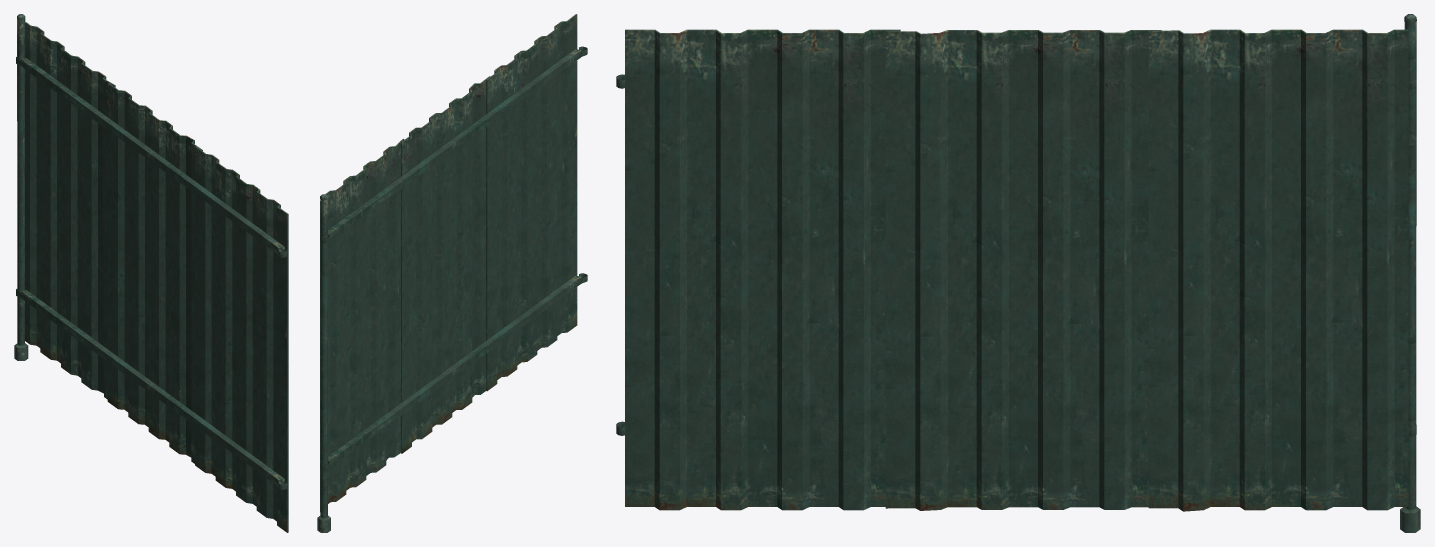
File: RustedFence_B_B.fbx
The picture shows the model from 3 angles, left to right: view 1: azimuth 30°, elevation 25°; view 2: azimuth 150°, elevation 25°; view 3: azimuth 270°, elevation 25°; orthographic projection. The views are drawn at different scales.
Visible parts, largest first — view 1: RustedFence_B_B; view 2: RustedFence_B_B; view 3: RustedFence_B_B.
Boxes of the visible parts, <box> form: RustedFence_B_B: <box>14,14,288,532</box>; RustedFence_B_B: <box>317,14,587,532</box>; RustedFence_B_B: <box>616,14,1420,532</box>.
Size of the model in its own units: 10.81 by 216 by 306.
